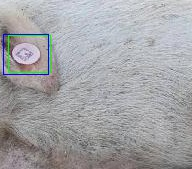text: (8, 35, 50, 72)
